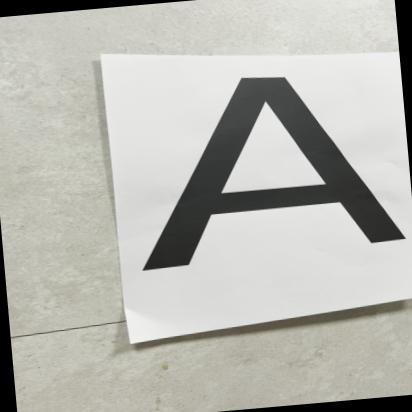seat: (113, 52, 412, 283)
